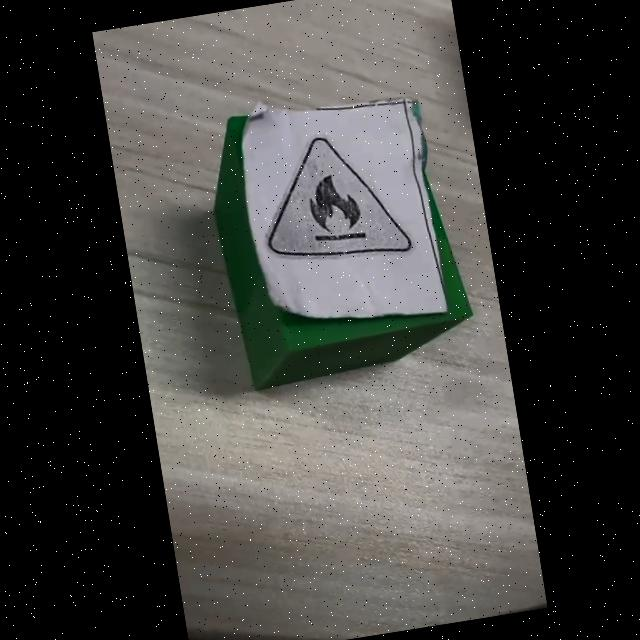Fire: (268, 137, 412, 257)
